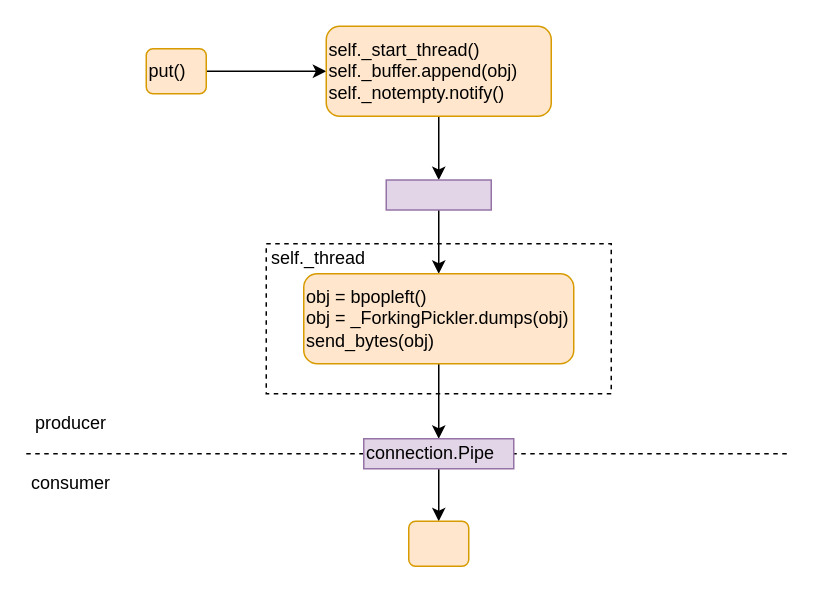
This 819x593 diagram has some shape labels left out. The shapes that lost their labels are listed below. From the top down, each one's box as (x1, y1, x2, y2) in pixels, then its label:
(385, 178, 491, 210): self._buffer
(407, 520, 469, 566): get()
